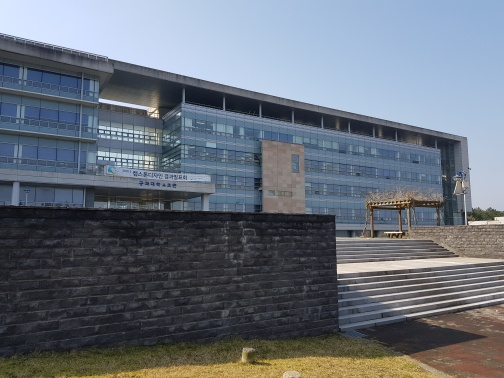Engineering College Building 4: (8, 88, 462, 246), (113, 156, 208, 201), (264, 137, 306, 215)
